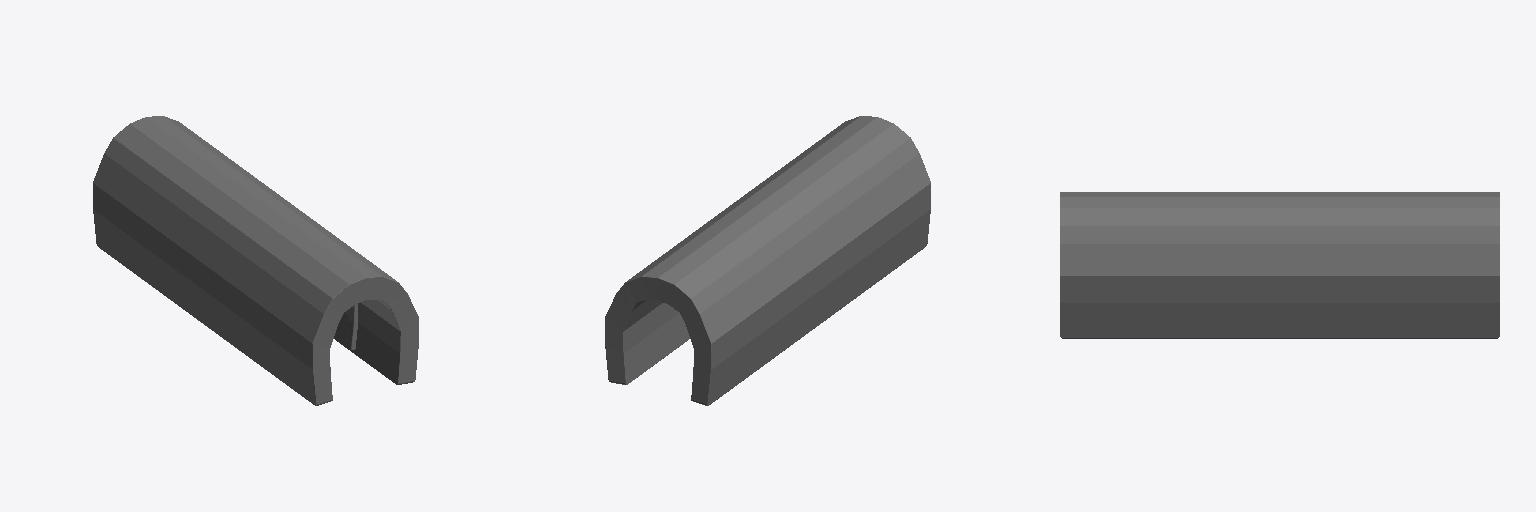
Rendered from cave.obj.
3 renders of one model, left to right at view 1: azimuth 30°, elevation 25°; view 2: azimuth 150°, elevation 25°; view 3: azimuth 270°, elevation 25°, orthographic.
Visible parts, largest first — view 1: polySurface4; view 2: polySurface4; view 3: polySurface4.
Part boxes in pixels (bbox=[...]): polySurface4: bbox=[93, 116, 418, 405]; polySurface4: bbox=[605, 116, 930, 405]; polySurface4: bbox=[1060, 192, 1499, 338].
Bounding box in the file's own units: 71.62 × 75.04 × 255.